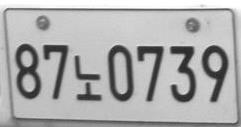0: (106, 43, 134, 101)
3: (169, 44, 197, 103)
7: (136, 45, 164, 102), (42, 44, 69, 99)
8: (13, 42, 42, 99)
9: (201, 44, 229, 102)
노: (73, 54, 102, 101)
